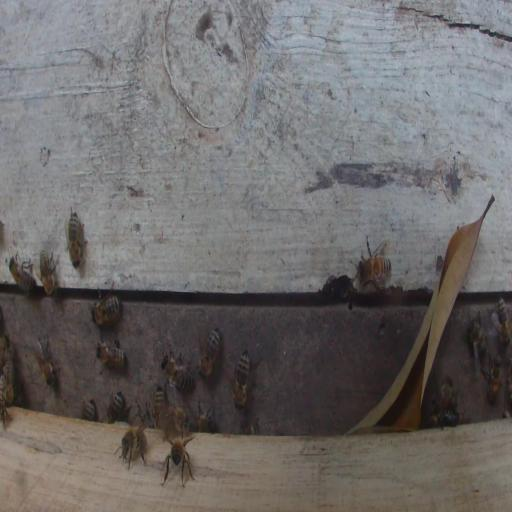nonpollenbee: (162, 437, 194, 488), (116, 426, 148, 470), (160, 353, 193, 393), (92, 283, 121, 327), (196, 327, 220, 380), (65, 208, 85, 270), (8, 253, 36, 295), (468, 317, 489, 372), (35, 335, 56, 387), (233, 350, 250, 410), (357, 254, 392, 282), (493, 295, 511, 348), (39, 249, 59, 296), (96, 339, 127, 369), (484, 354, 501, 406), (160, 407, 190, 433), (429, 409, 462, 429), (107, 390, 127, 422), (434, 377, 453, 410), (199, 401, 216, 433), (2, 364, 14, 406), (153, 387, 166, 421), (83, 399, 97, 421), (242, 418, 255, 435)
